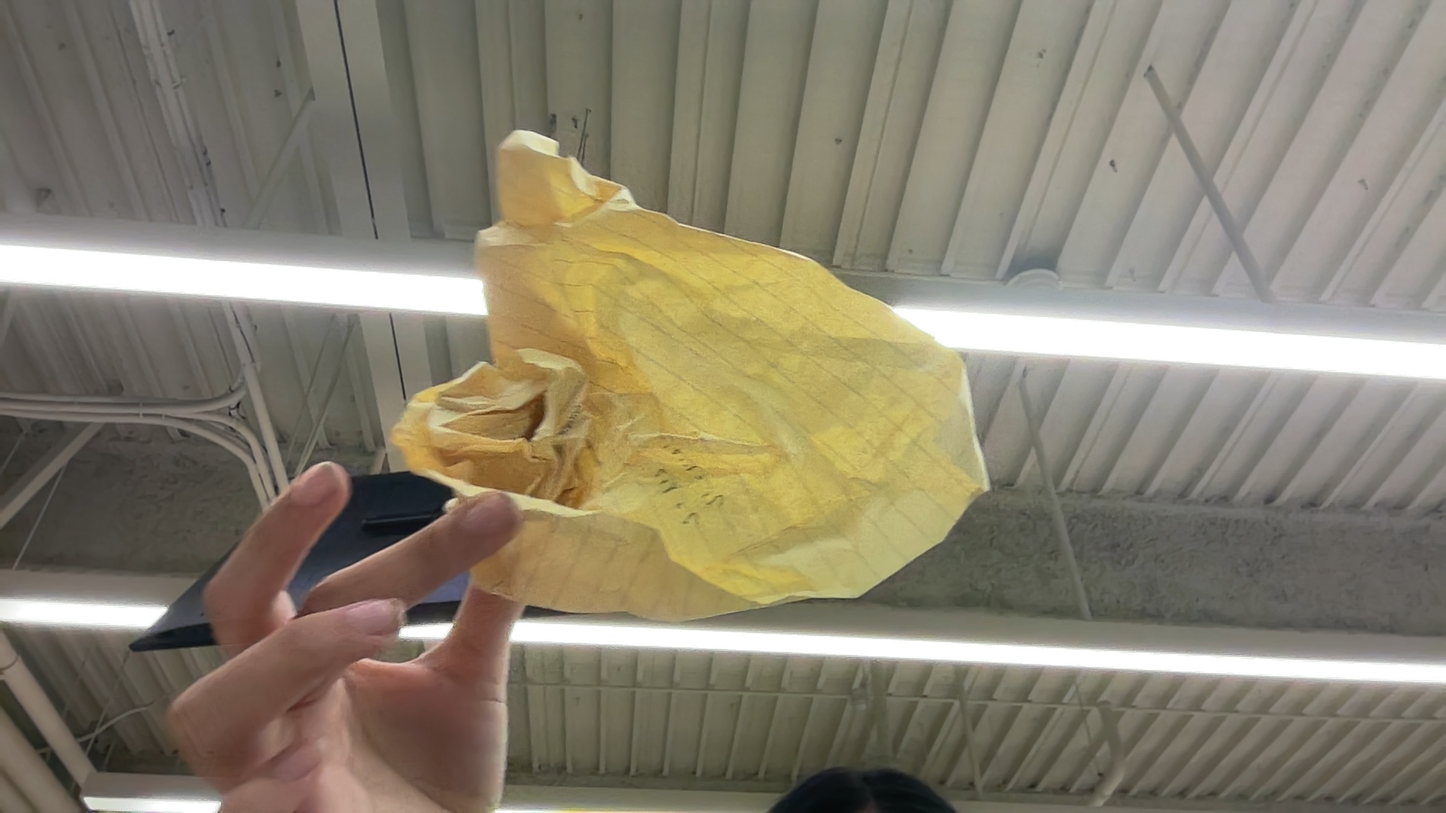Paper: (380, 347, 599, 505)
